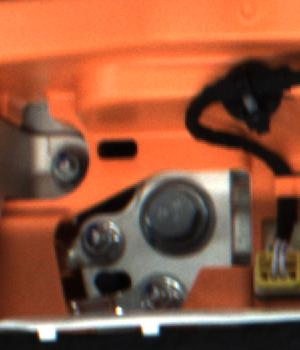nut_b: (140, 179, 218, 256)
